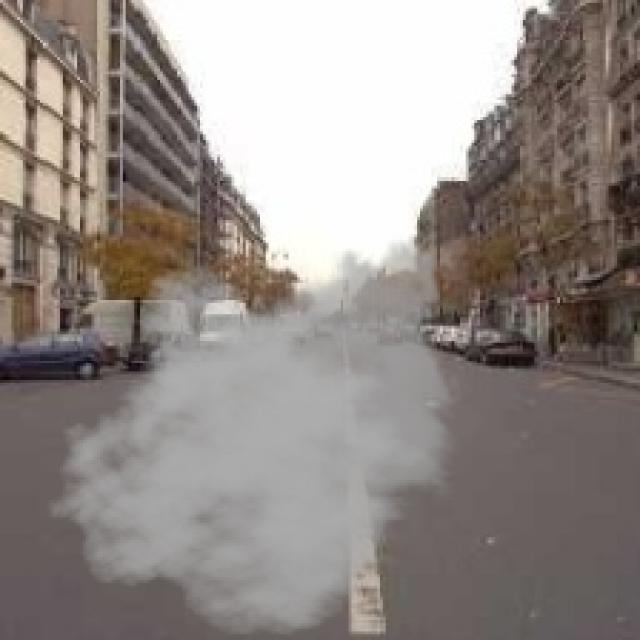smoke: (46, 223, 466, 637)
